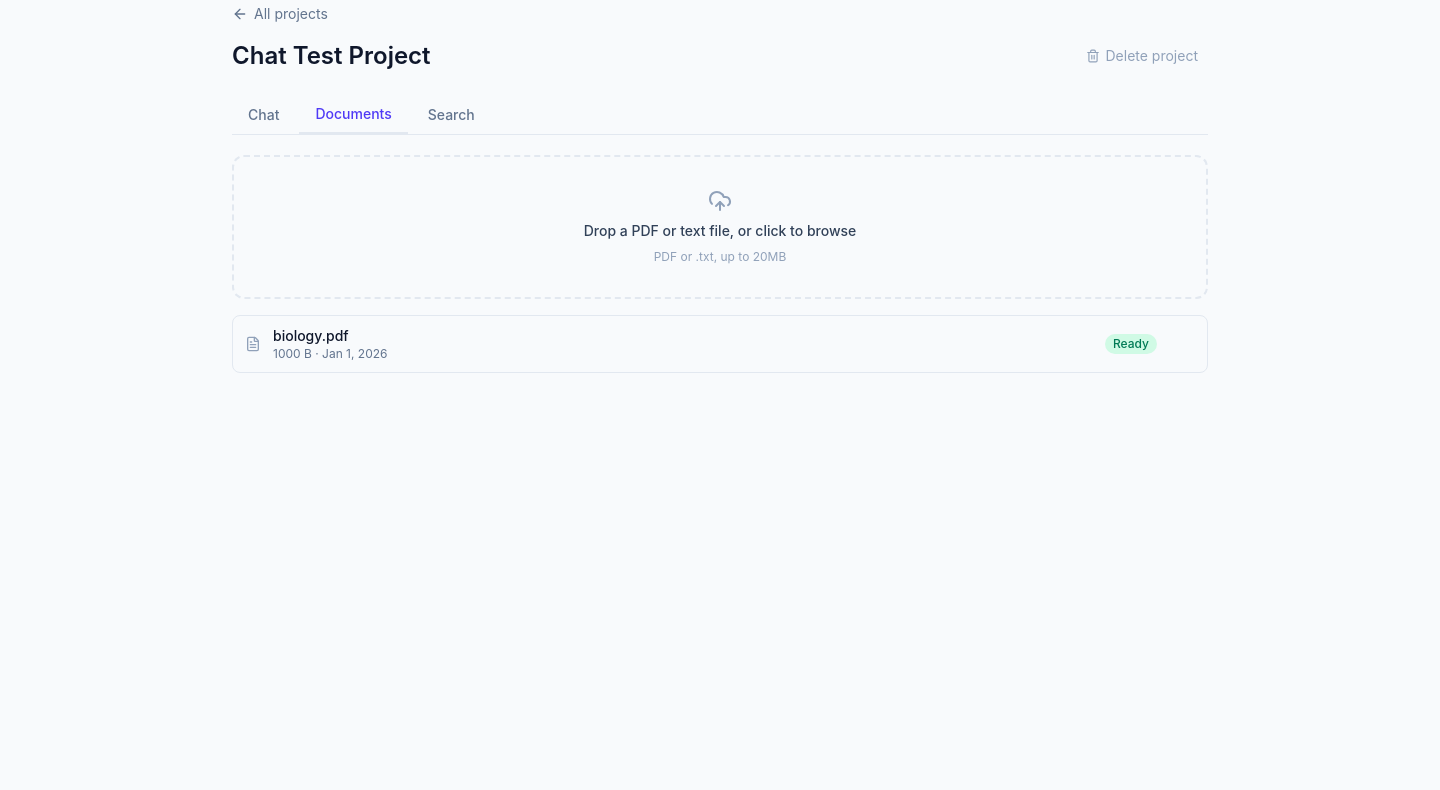
Test: Project chat flow › "New chat" clears a half-typed draft and returns to the empty state
Expected: the heading "Chat Test Project" is shown, [232, 40, 431, 72]
Click the button "Chat" at (264, 115), box [232, 96, 295, 134]
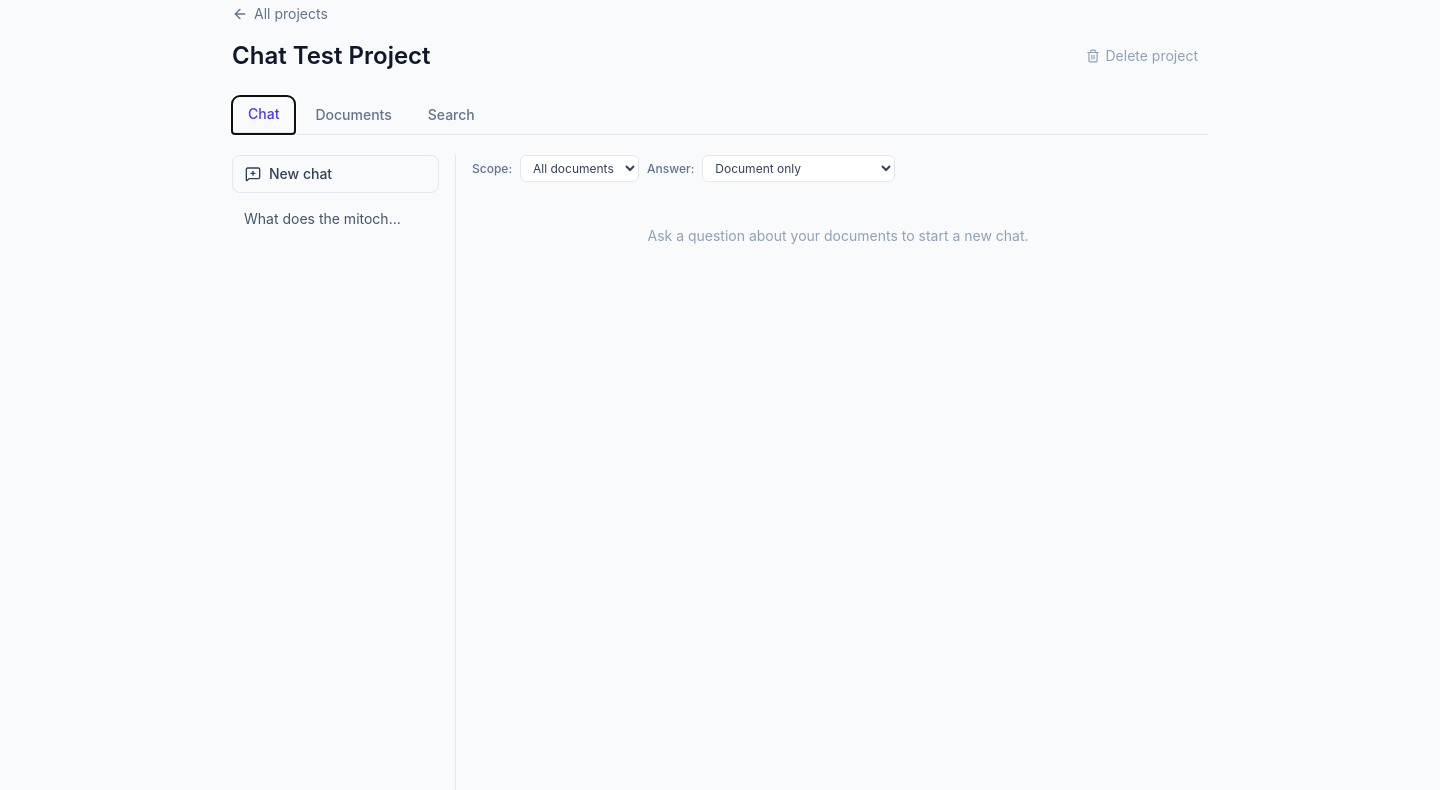
Note: Open the existing conversation, then start (but don't send) a new draft.
Click the button "What does the mitochondria do?" at (336, 219), box [232, 201, 439, 237]
(page scrolled)
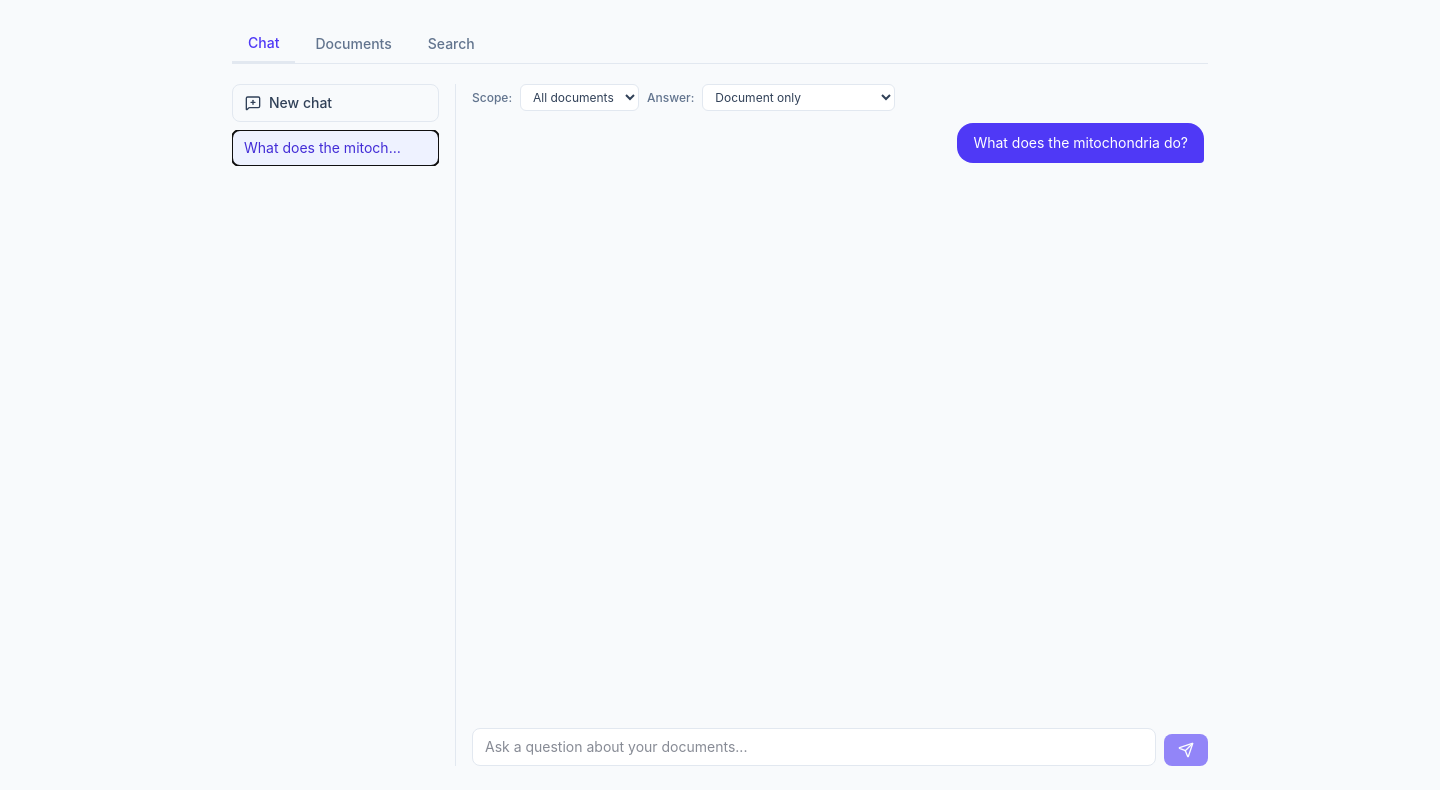
Type "an unsent draft that should not survive New chat" into the text box with placeholder "Ask a question about your documents..." at (814, 747), box [472, 728, 1156, 766]
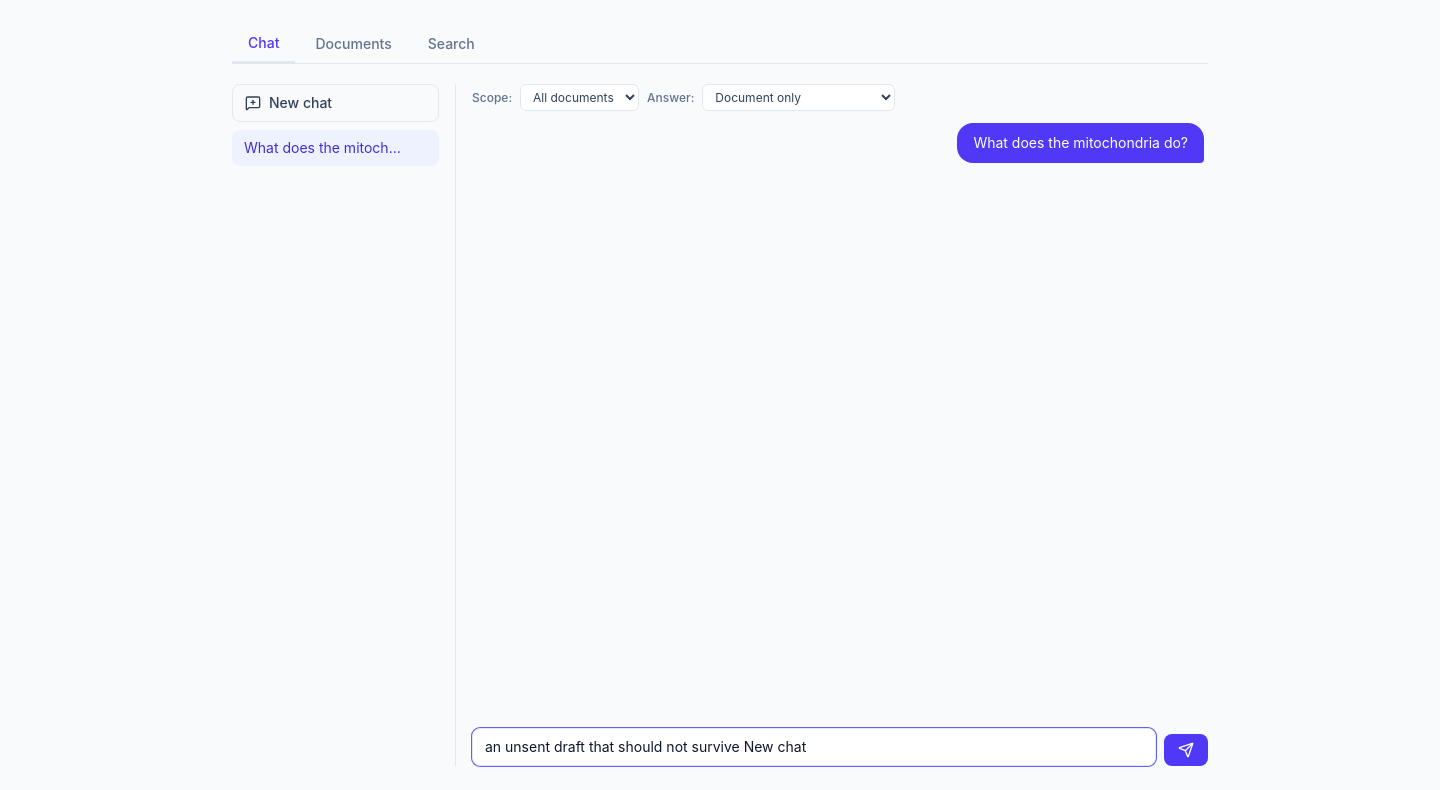
Click the button "New chat" at (336, 103), box [232, 84, 439, 122]
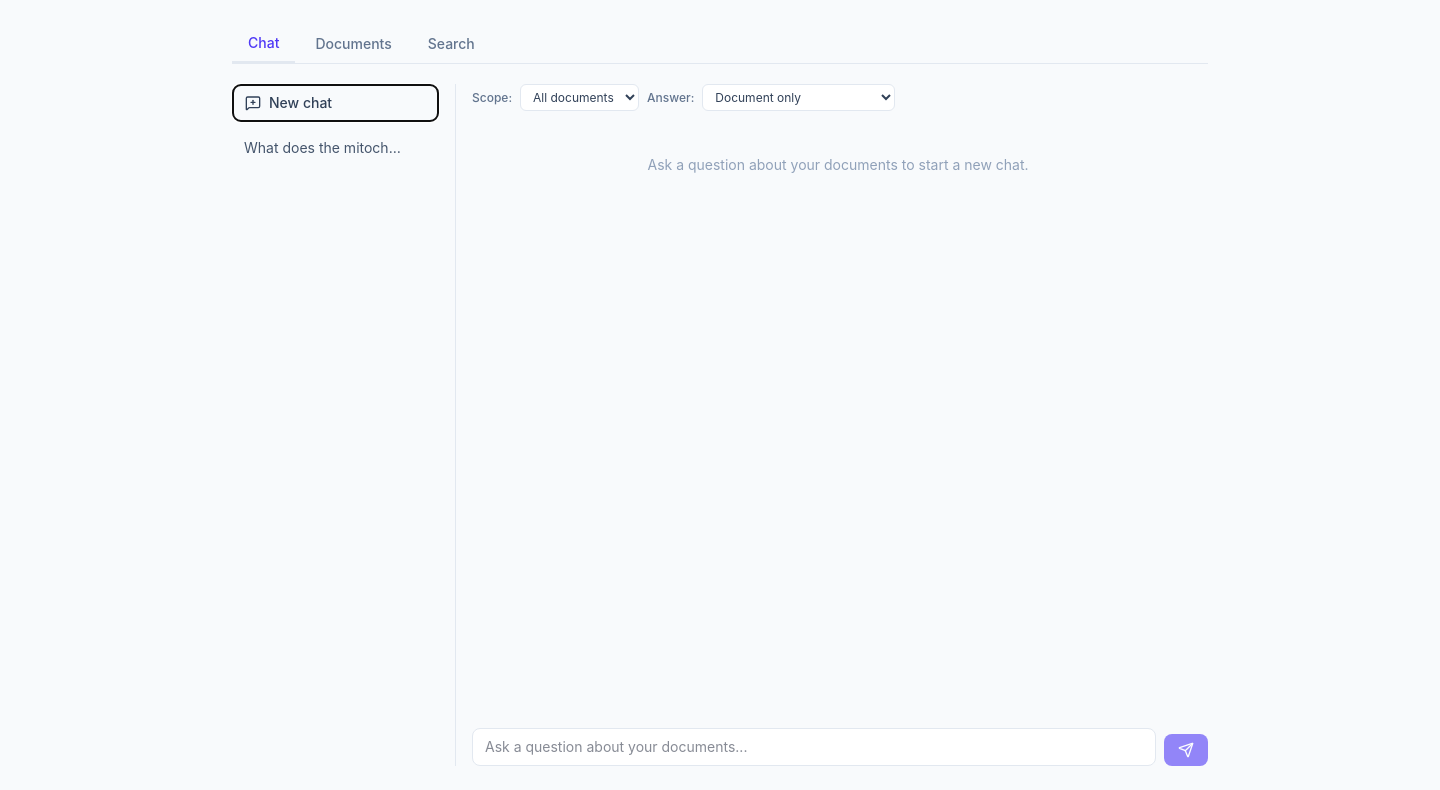
Expected: the text box with placeholder "Ask a question about your documents..." is empty, [472, 728, 1156, 766]
Expected: the text "Ask a question about your documents to start a new chat." is shown, [648, 156, 1029, 173]
